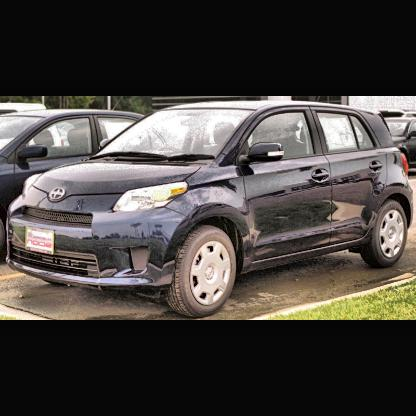Scion xD Hatchback 2012: (6, 98, 415, 320)
